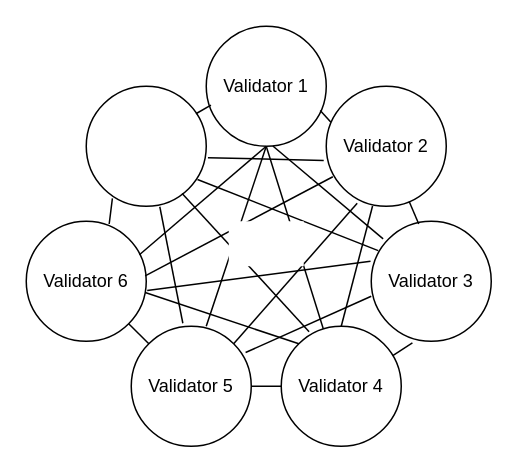
Some shapes in this 518 by 473 pixel diagram are drawn without their labels. Here are the shapes that lost their labels. From the top down, the centre of each, then its label:
(145,145): Validator 7
(265,243): Current Validators
